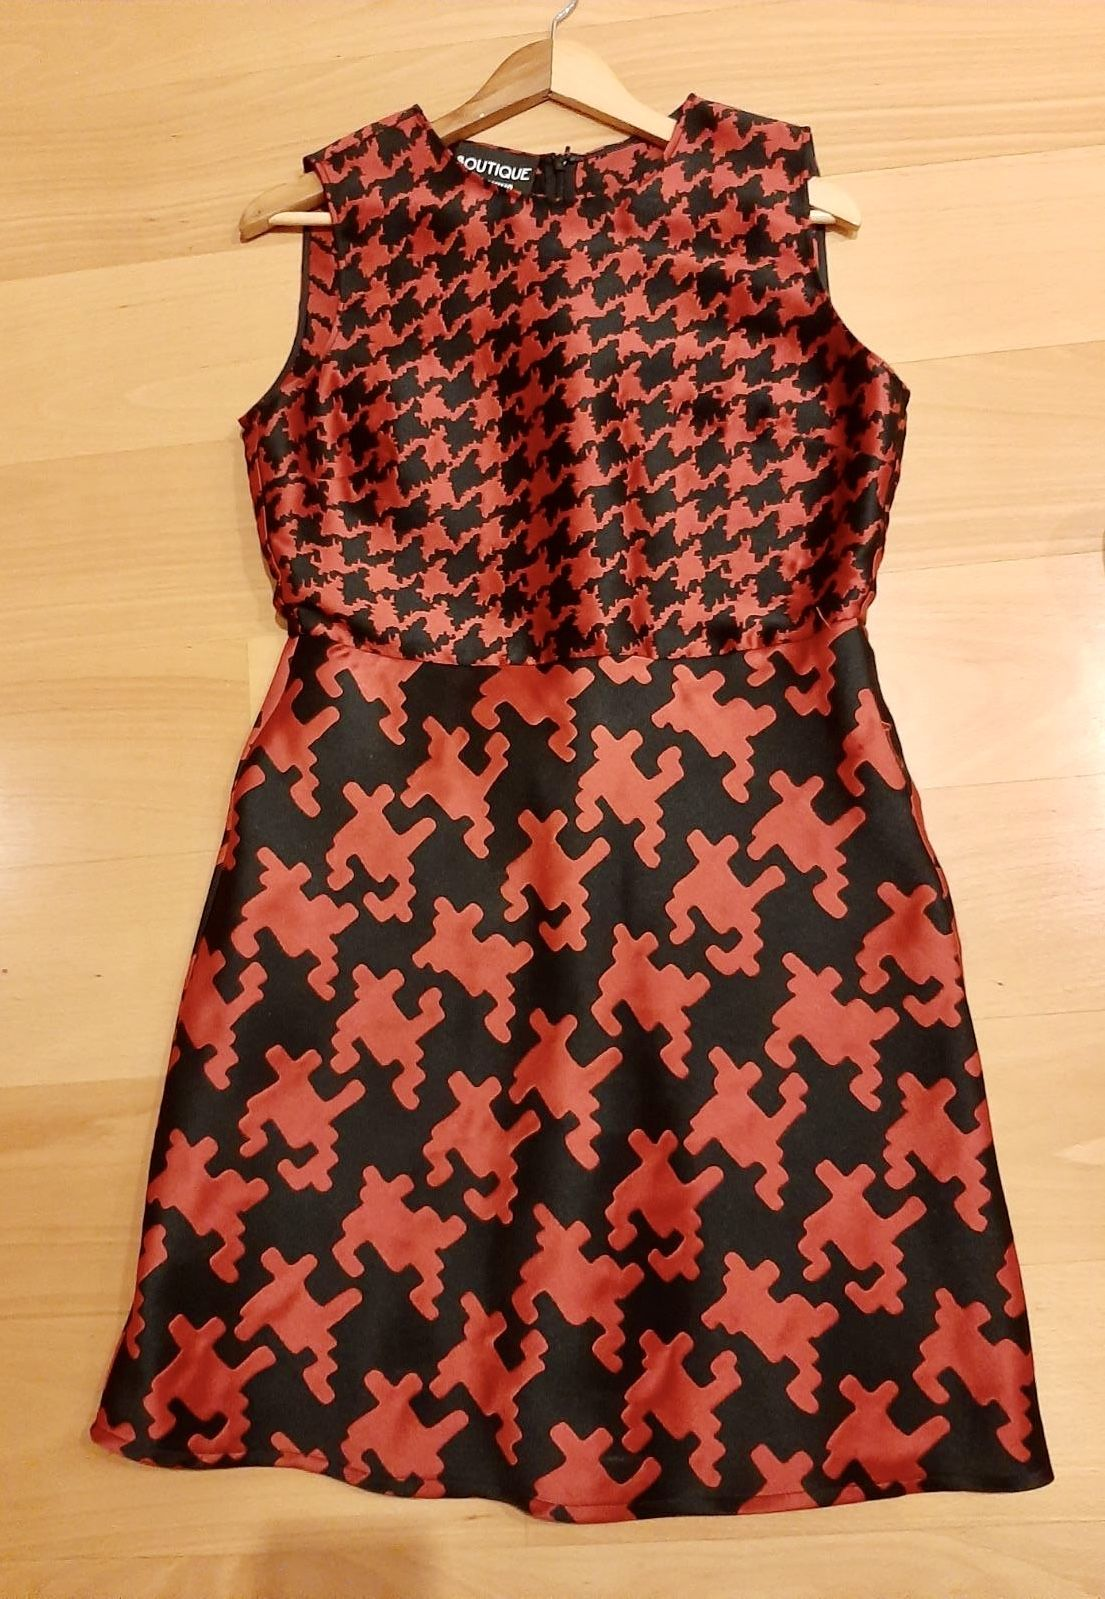clothes: (74, 109, 1056, 1497)
